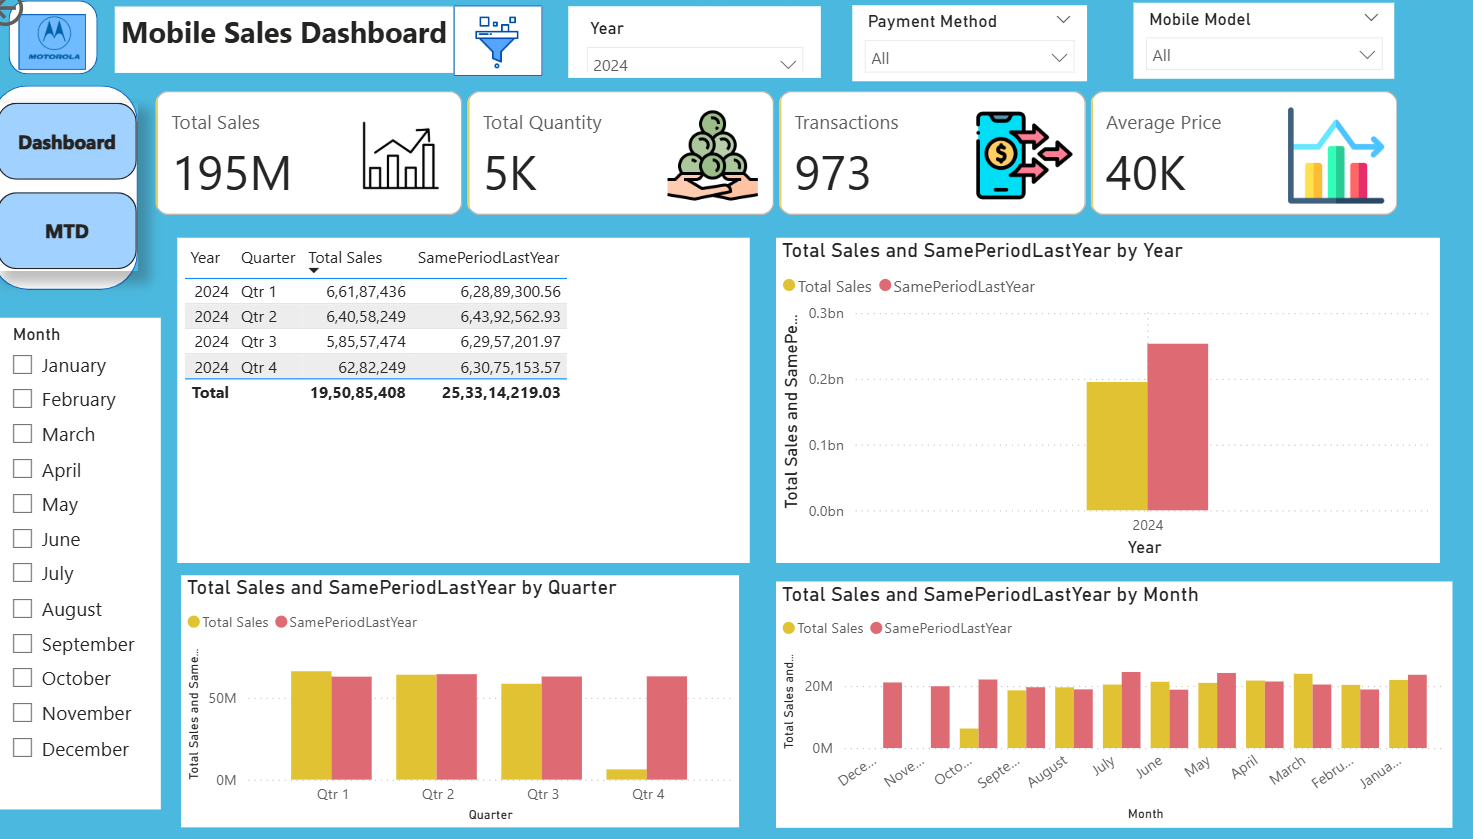

The page's visual inventory and layout, read from the dashboard file:
{"tool":"powerbi","page":{"name":"Same Period Last Year","canvas":[1280,720],"ordinal":2},"visuals":[{"type":"shape","box":[23.3,13.7,74.1,61.7],"z":0},{"type":"shape","box":[31.6,24.7,56.3,46.7],"z":1000},{"type":"image","box":[32.9,19.2,54.9,52.1],"z":2000},{"type":"textbox","box":[111.1,19.2,292.3,54.9],"z":3000},{"type":"shape","box":[8.2,83.7,122.1,170.2],"z":4000},{"type":"cardVisual","fields":{"Data":["Mobile data.Total Sales","Mobile data.Total Quantity","Mobile data.TRANSACTIONS","Mobile data.Average Price"]},"box":[140,83.7,1044.3,113.9],"z":5000},{"type":"slicer","fields":{"Values":["Custom Caluclator.final date.Variation.Date Hierarchy.Year"]},"box":[488.5,19.2,209.9,59],"z":6000},{"type":"slicer","fields":{"Values":["Mobile data.Payment Method"]},"box":[724.5,17.8,194.9,63.1],"z":7000},{"type":"slicer","fields":{"Values":["Mobile data.Mobile Model"]},"box":[957.8,15.1,216.8,63.1],"z":8000},{"type":"shape","box":[392.5,17.8,74.1,59],"z":9000},{"type":"image","box":[363.6,22,130.4,53.5],"z":10000},{"type":"actionButton","box":[0,0,100,40],"z":11000},{"type":"slicer","fields":{"Values":["Custom Caluclator.final date.Variation.Date Hierarchy.Month"]},"box":[13.7,277.2,135.8,408.9],"z":12000},{"type":"tableEx","fields":{"Values":["Custom Caluclator.final date.Variation.Date Hierarchy.Year","Custom Caluclator.final date.Variation.Date Hierarchy.Quarter","Mobile data.Total Sales","Custom Caluclator.SamePeriodLastYear"]},"box":[163.3,211.3,476.2,270.3],"z":13000},{"type":"clusteredColumnChart","fields":{"Category":["Custom Caluclator.final date.Variation.Date Hierarchy.Year","Custom Caluclator.final date.Variation.Date Hierarchy.Quarter","Custom Caluclator.final date.Variation.Date Hierarchy.Month"],"Y":["Mobile data.Total Sales","Custom Caluclator.SamePeriodLastYear"]},"box":[661.4,211.3,551.6,270.3],"z":14000},{"type":"clusteredColumnChart","fields":{"Category":["Custom Caluclator.final date.Variation.Date Hierarchy.Year","Custom Caluclator.final date.Variation.Date Hierarchy.Quarter","Custom Caluclator.final date.Variation.Date Hierarchy.Month"],"Y":["Mobile data.Total Sales","Custom Caluclator.SamePeriodLastYear"]},"box":[166,491.3,463.8,209.9],"z":15000},{"type":"clusteredColumnChart","fields":{"Category":["Custom Caluclator.final date.Variation.Date Hierarchy.Year","Custom Caluclator.final date.Variation.Date Hierarchy.Quarter","Custom Caluclator.final date.Variation.Date Hierarchy.Month"],"Y":["Mobile data.Total Sales","Custom Caluclator.SamePeriodLastYear"]},"box":[661.4,496.7,562.6,204.5],"z":16000},{"type":"pageNavigator","box":[13.7,98.8,116.6,140],"z":17000}]}

Visuals, with their boxes in screenshot pixels (x1, y1, x2, y2), scaled from the page's 1280x720 canvas onto the 1473x839 screenshot:
shape: select_region(27, 16, 112, 88)
shape: select_region(36, 29, 101, 83)
image: select_region(38, 22, 101, 83)
textbox: select_region(128, 22, 464, 86)
shape: select_region(9, 98, 150, 296)
cardVisual - Mobile data.Total Sales x Mobile data.Total Quantity: select_region(161, 98, 1363, 230)
slicer - Custom Caluclator.final date.Variation.Date Hierarchy.Year: select_region(562, 22, 804, 91)
slicer - Mobile data.Payment Method: select_region(834, 21, 1058, 94)
slicer - Mobile data.Mobile Model: select_region(1102, 18, 1352, 91)
shape: select_region(452, 21, 537, 89)
image: select_region(418, 26, 568, 88)
actionButton: select_region(0, 0, 115, 47)
slicer - Custom Caluclator.final date.Variation.Date Hierarchy.Month: select_region(16, 323, 172, 799)
tableEx - Custom Caluclator.final date.Variation.Date Hierarchy.Year x Custom Caluclator.final date.Variation.Date Hierarchy.Quarter: select_region(188, 246, 736, 561)
clusteredColumnChart - Custom Caluclator.final date.Variation.Date Hierarchy.Year x Custom Caluclator.final date.Variation.Date Hierarchy.Quarter: select_region(761, 246, 1396, 561)
clusteredColumnChart - Custom Caluclator.final date.Variation.Date Hierarchy.Year x Custom Caluclator.final date.Variation.Date Hierarchy.Quarter: select_region(191, 573, 725, 817)
clusteredColumnChart - Custom Caluclator.final date.Variation.Date Hierarchy.Year x Custom Caluclator.final date.Variation.Date Hierarchy.Quarter: select_region(761, 579, 1409, 817)
pageNavigator: select_region(16, 115, 150, 278)
